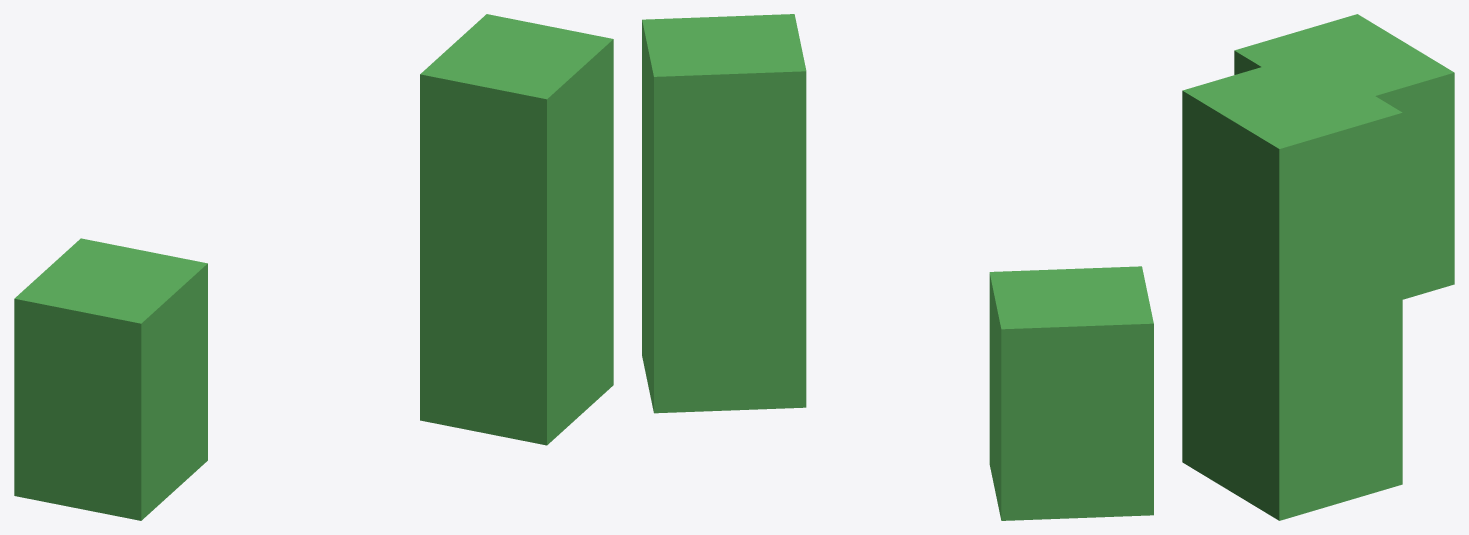
File: Plant_B_04.FBX
3 renders of one model, left to right at view 1: azimuth 30°, elevation 25°; view 2: azimuth 150°, elevation 25°; view 3: azimuth 270°, elevation 25°, orthographic. The views are drawn at different scales.
Parts seen in each view (by area): view 1: Plant_B_04; view 2: Plant_B_04; view 3: Plant_B_04.
Boxes of the visible parts, x1,y1,x2,y2 form: Plant_B_04: (14, 14, 613, 520); Plant_B_04: (642, 14, 1153, 520); Plant_B_04: (1182, 14, 1454, 520).
Size of the model in its own units: 0.3495 by 0.2054 by 0.1362.
